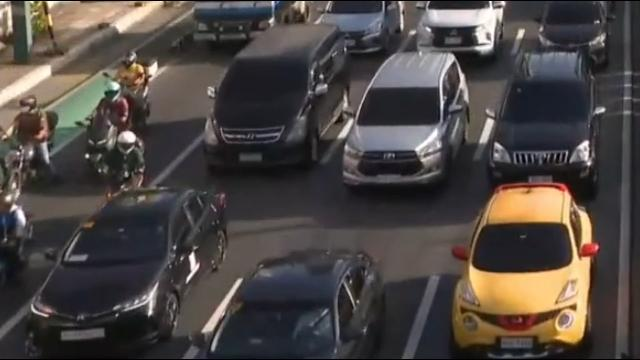bus: (190, 0, 310, 46)
car: (22, 185, 229, 358), (450, 181, 600, 355), (187, 248, 382, 360), (338, 51, 470, 189), (483, 52, 607, 189), (310, 1, 408, 56), (414, 0, 505, 57), (532, 0, 619, 59)
motorcycle: (0, 92, 61, 187), (78, 86, 132, 176), (103, 51, 160, 131), (100, 127, 147, 206)
van: (200, 24, 350, 173)
